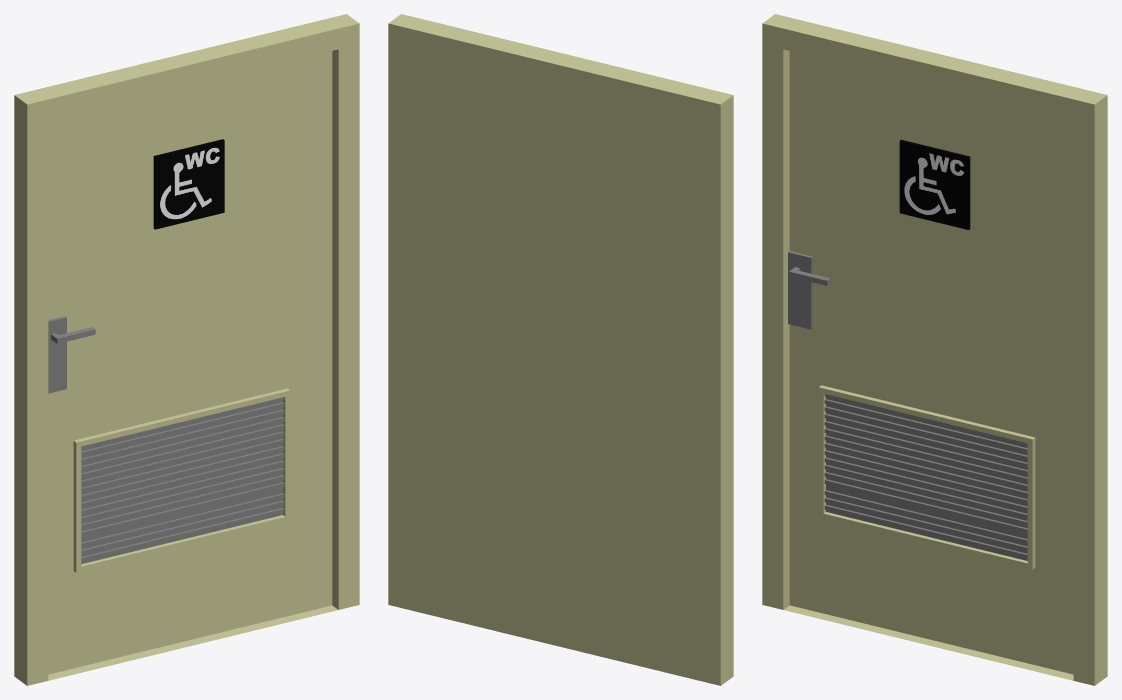
The model's file is wc-door.fbx.
3 renders of one model, left to right at view 1: azimuth 30°, elevation 25°; view 2: azimuth 150°, elevation 25°; view 3: azimuth 330°, elevation 25°, orthographic.
Visible parts, largest first — view 1: Cylinder.002; view 2: Cylinder.002; view 3: Cylinder.002.
Boxes of the visible parts, x1,y1,x2,y2 form: Cylinder.002: (14,14,359,685); Cylinder.002: (388,14,733,685); Cylinder.002: (762,14,1107,685).
Size of the model in its own units: 336 by 561 by 25.46.
Materials: 3 (1 with a texture image).
